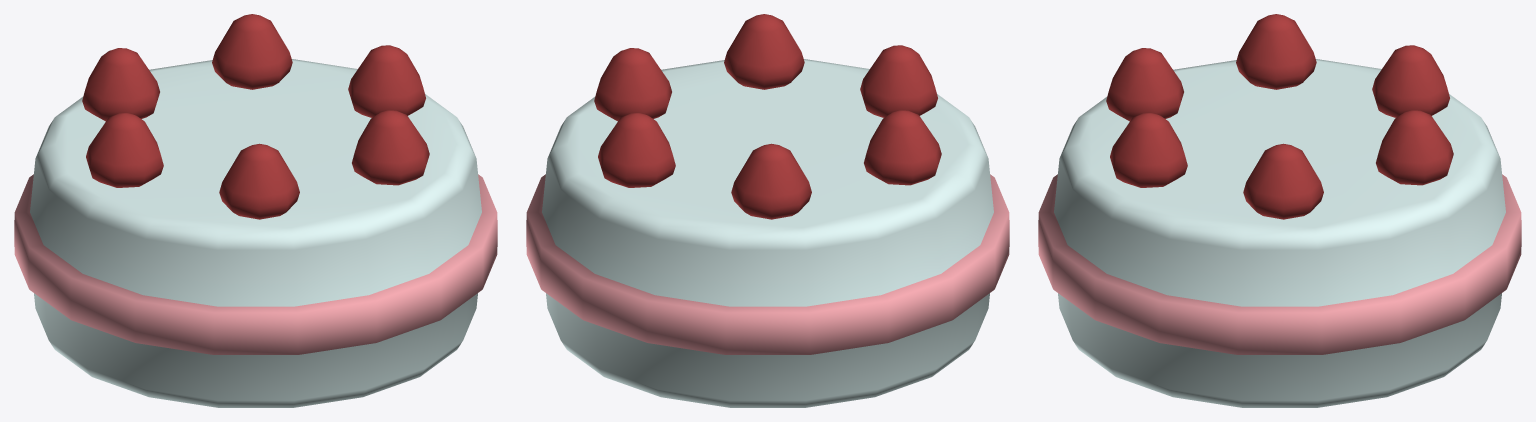
The model's file is Cake.fbx.
3 renders of one model, left to right at view 1: azimuth 30°, elevation 25°; view 2: azimuth 150°, elevation 25°; view 3: azimuth 270°, elevation 25°, orthographic.
Parts seen in each view (by area): view 1: Cake; view 2: Cake; view 3: Cake.
Boxes of the visible parts, bbox=[...] form: Cake: bbox=[14, 14, 497, 407]; Cake: bbox=[526, 14, 1009, 407]; Cake: bbox=[1038, 14, 1521, 407].
Size of the model in its own units: 450 by 253 by 456.
